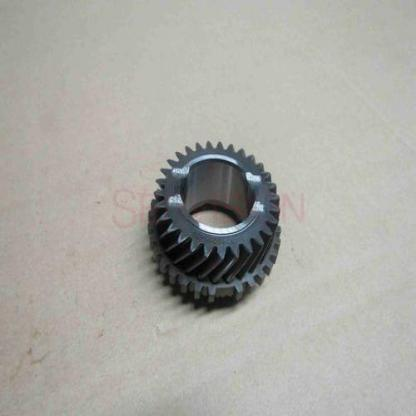FOD: (145, 137, 287, 311)
